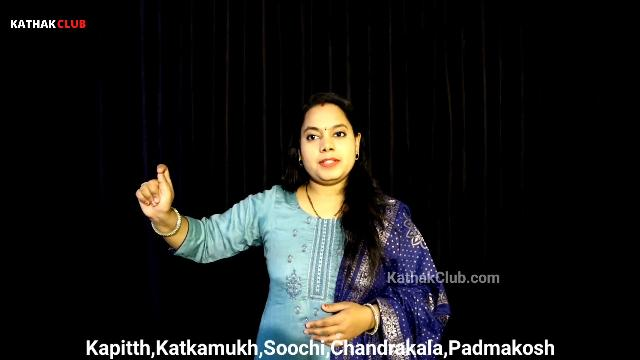kapitth: (115, 153, 199, 255)
